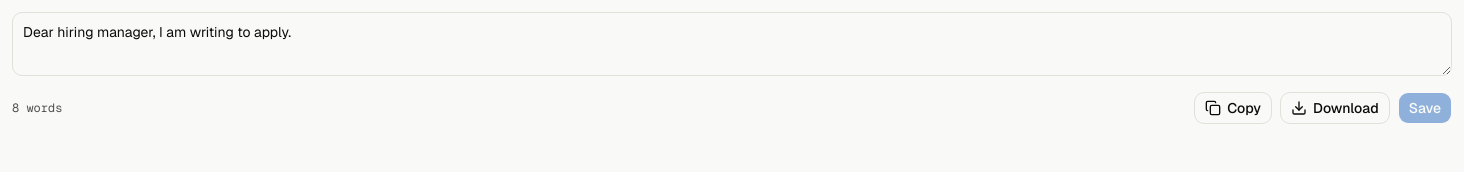
Test: LetterEditor › cannot be saved until something changes
The image size is (1464, 172).
Expected: the button "Save" is disabled, [1398,92,1452,124]
In the text box named "Cover letter": x=732, y=44 [12,12,1452,76], type " Truly."
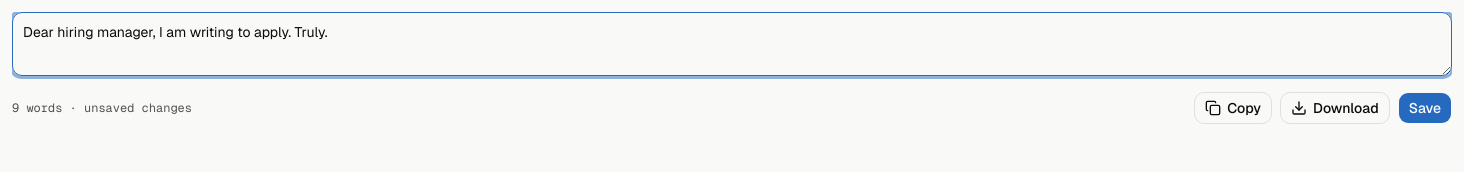
Expected: the button "Save" is enabled, [1398,92,1452,124]
Expected: the text "9 words · unsaved changes" is shown, [12,100,192,116]
